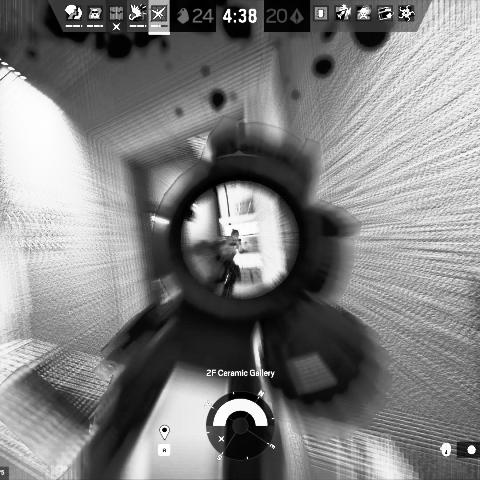Character: (215, 227, 247, 300)
Head: (230, 228, 240, 241)
